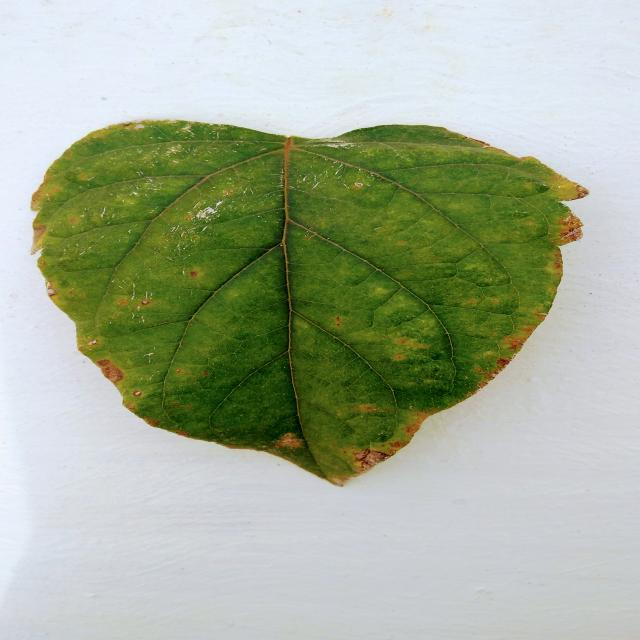Parijatha: (31, 121, 587, 484)
